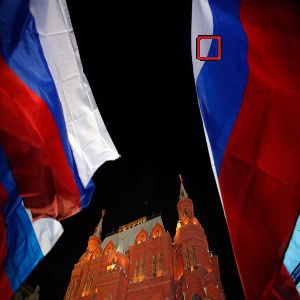square: (195, 34, 222, 61)
